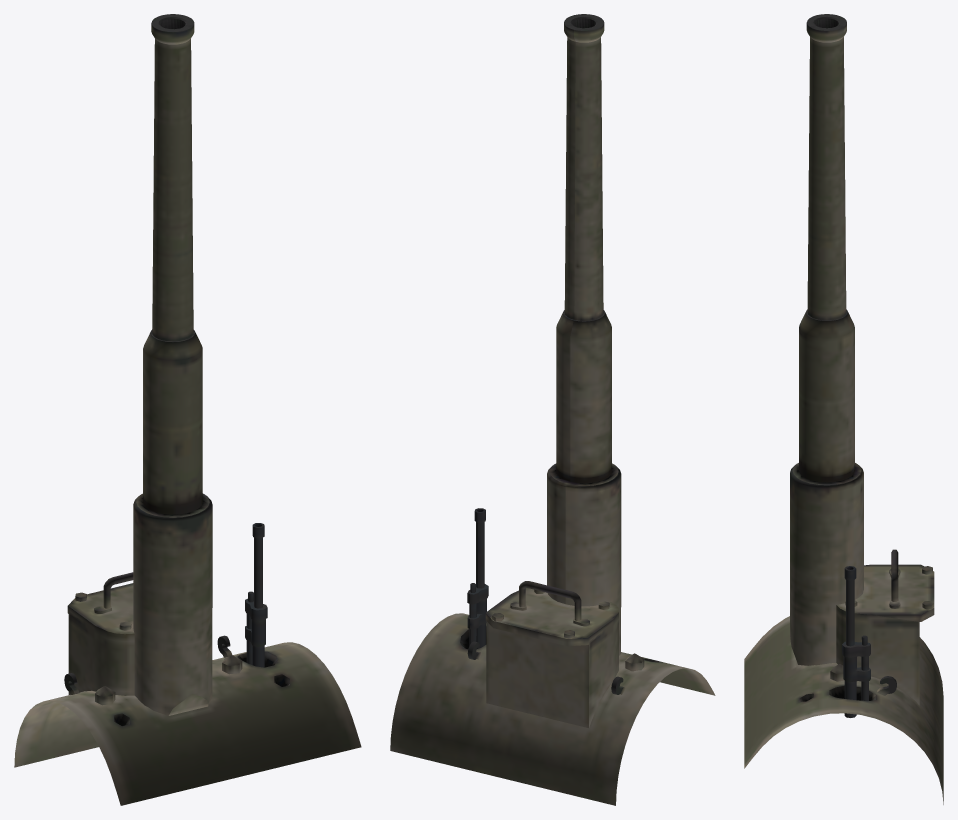
The model's file is Gun_06.glb.
3 renders of one model, left to right at view 1: azimuth 30°, elevation 25°; view 2: azimuth 150°, elevation 25°; view 3: azimuth 270°, elevation 25°, orthographic. The views are drawn at different scales.
Visible parts, largest first — view 1: set_0_group_0; view 2: set_0_group_0; view 3: set_0_group_0.
Part boxes in pixels (bbox=[...]): set_0_group_0: bbox=[14, 14, 361, 805]; set_0_group_0: bbox=[390, 14, 715, 805]; set_0_group_0: bbox=[744, 14, 943, 804].
Bounding box in the file's own units: 0.4919 × 1.5 × 0.3764.
1 material, 1 textured.
